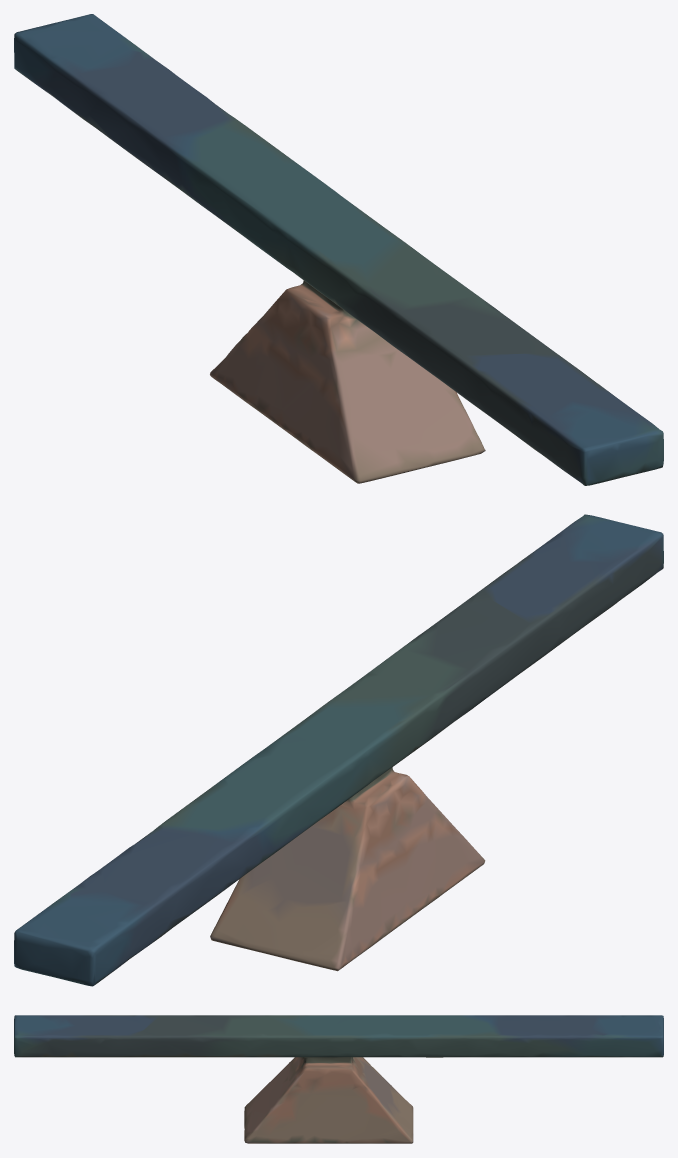
The model's file is gen3d-seesaw-lod0.glb.
The picture shows the model from 3 angles, top to bottom: view 1: azimuth 30°, elevation 25°; view 2: azimuth 150°, elevation 25°; view 3: azimuth 270°, elevation 25°; orthographic projection. The views are drawn at different scales.
Visible parts, largest first — view 1: part_0; view 2: part_0; view 3: part_0.
Part boxes in pixels (x1,y1,x2,y2): part_0: [14, 14, 663, 485]; part_0: [14, 514, 663, 986]; part_0: [14, 1015, 663, 1143].
Bounding box in the file's own units: 0.7659 × 1 × 5.85.
